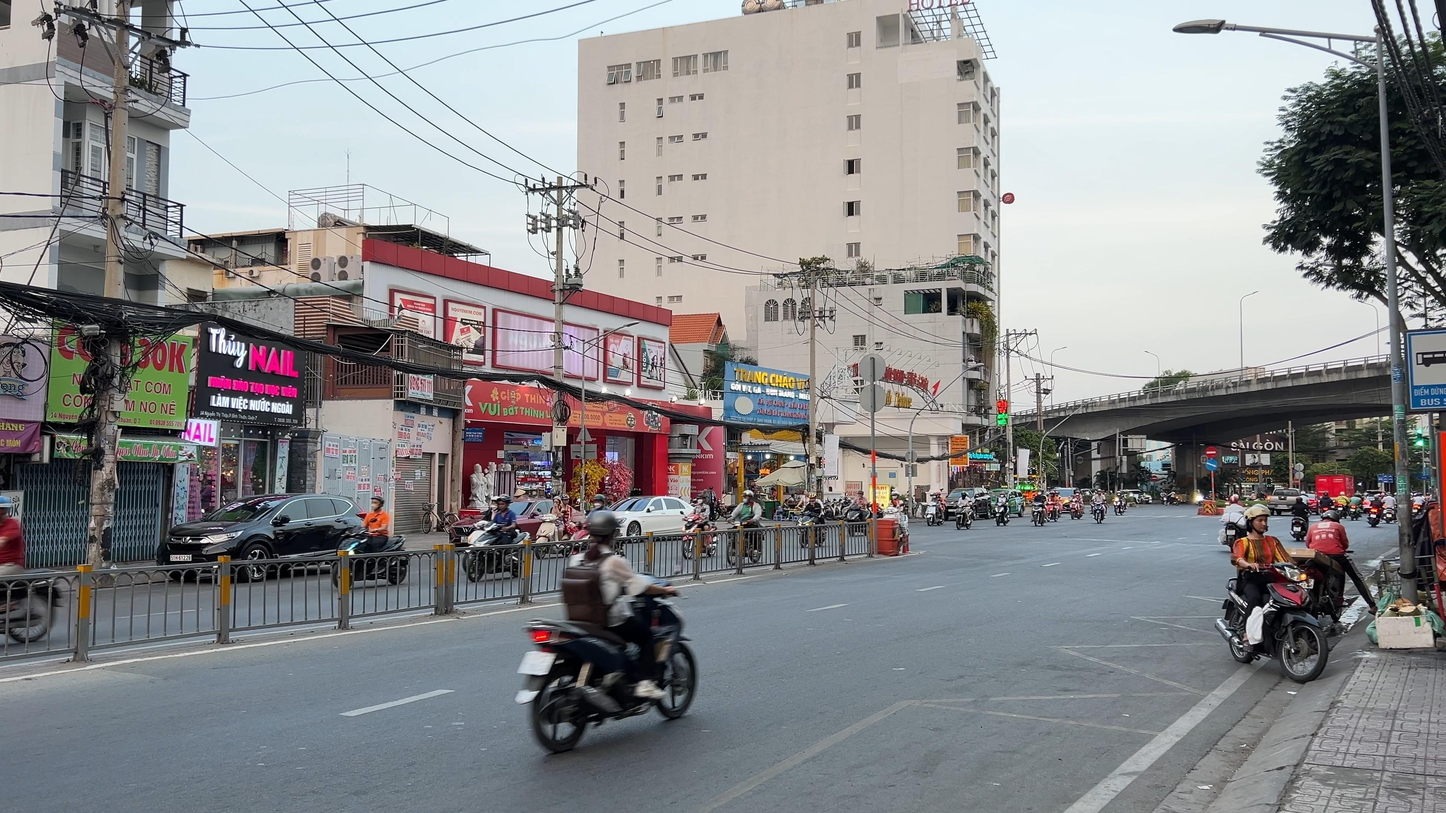driver: (516, 509, 698, 752), (1214, 503, 1329, 683), (1285, 510, 1378, 621), (333, 496, 409, 589), (468, 493, 530, 583), (723, 490, 767, 566), (535, 494, 578, 559), (679, 494, 719, 559), (1217, 496, 1248, 553), (796, 492, 827, 548), (879, 491, 909, 538), (846, 490, 873, 537), (1289, 496, 1312, 542), (952, 491, 973, 530), (1030, 488, 1050, 527), (925, 490, 946, 527), (1367, 494, 1386, 527), (994, 492, 1010, 527), (1091, 489, 1107, 524), (1380, 492, 1397, 523), (1348, 492, 1363, 520), (1336, 491, 1350, 519)
helmet: (586, 510, 622, 545), (1244, 503, 1272, 535), (497, 494, 514, 513), (1320, 511, 1341, 524), (371, 496, 385, 512), (741, 490, 754, 505), (593, 494, 606, 509), (490, 496, 500, 511), (561, 494, 570, 505), (891, 490, 900, 500), (808, 493, 817, 503), (553, 496, 561, 507), (1229, 496, 1238, 504), (383, 512, 385, 512)
